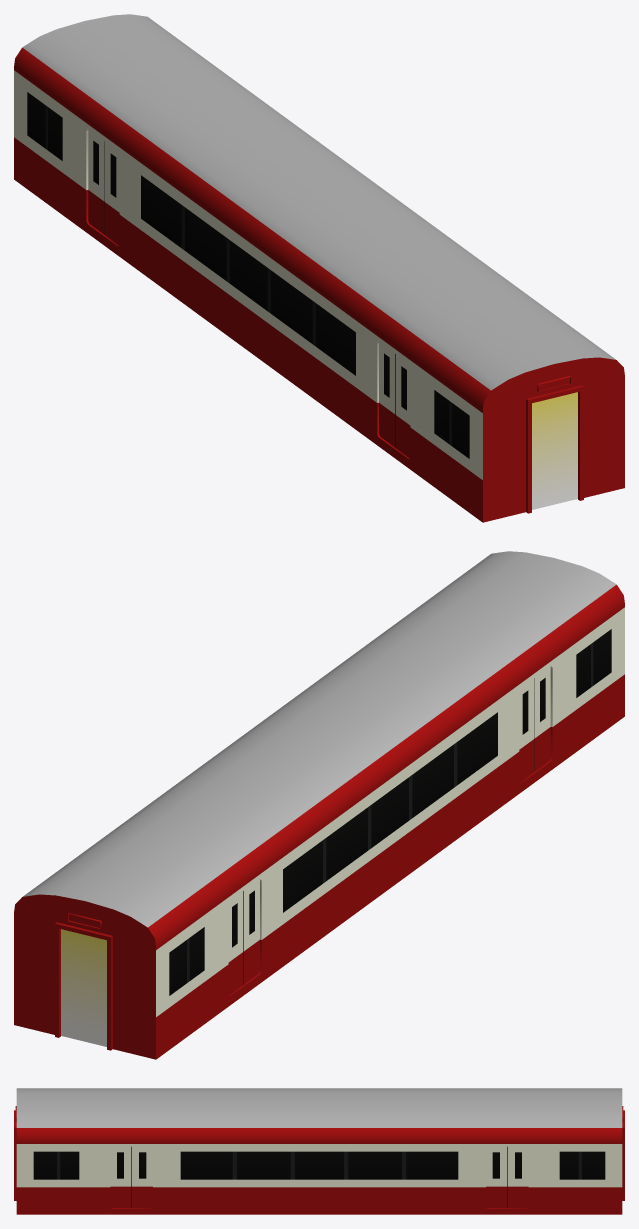
The picture shows the model from 3 angles, top to bottom: view 1: azimuth 30°, elevation 25°; view 2: azimuth 150°, elevation 25°; view 3: azimuth 270°, elevation 25°; orthographic projection. The views are drawn at different scales.
Parts seen in each view (by area): view 1: obj10; view 2: obj10; view 3: obj10.
Boxes of the visible parts, <box> form: obj10: <box>14,14,624,522</box>; obj10: <box>14,551,624,1059</box>; obj10: <box>14,1088,624,1214</box>.
Size of the model in its own units: 6.5 by 6.18 by 37.46.
Materials: 7 (7 with a texture image).
